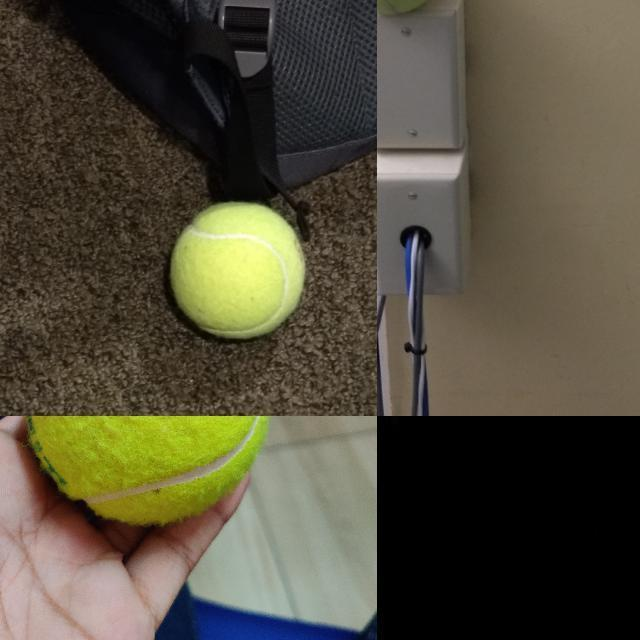tennis-ball: (22, 416, 270, 524), (166, 200, 306, 340)
